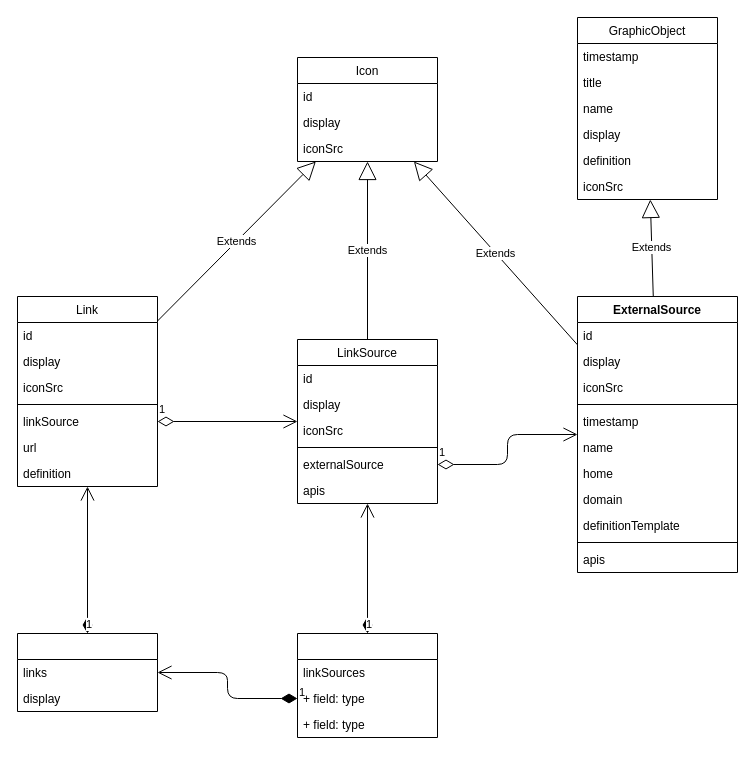
Image size: 755x758. Some labels were removed from this diagram. The shapes that lost their labels are listed below. From the top down, each one's box as (x1, y1, x2, y2) in pixels, then its label:
(16, 632, 158, 712): Object
(296, 632, 438, 738): Collection
